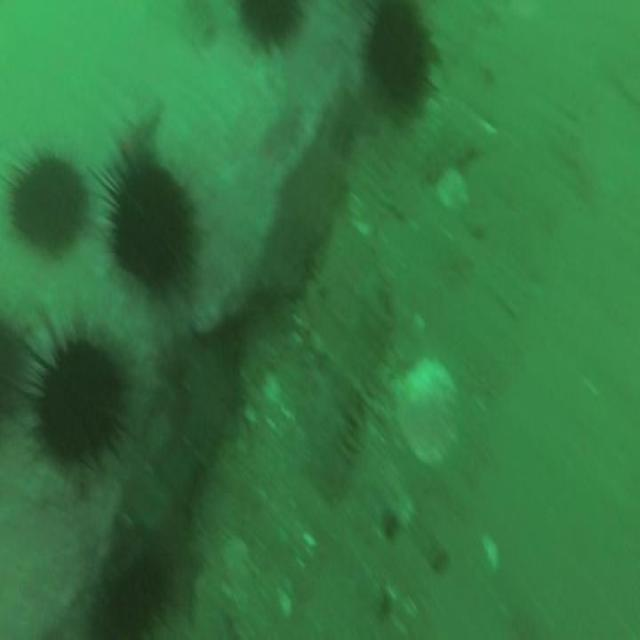echinus: (35, 338, 121, 460), (111, 163, 190, 284), (84, 545, 177, 640), (11, 160, 85, 254), (366, 14, 429, 112), (236, 0, 300, 46)
holothurian: (316, 276, 392, 501)
scallop: (400, 357, 460, 466)
